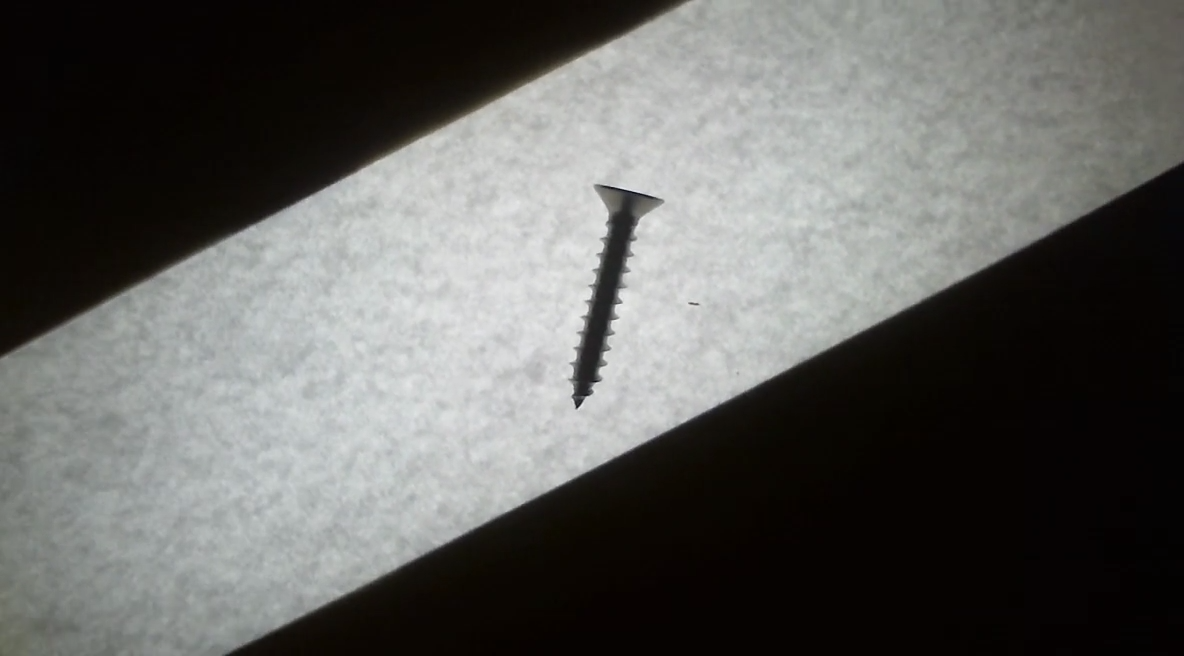S001: (544, 175, 685, 419)
